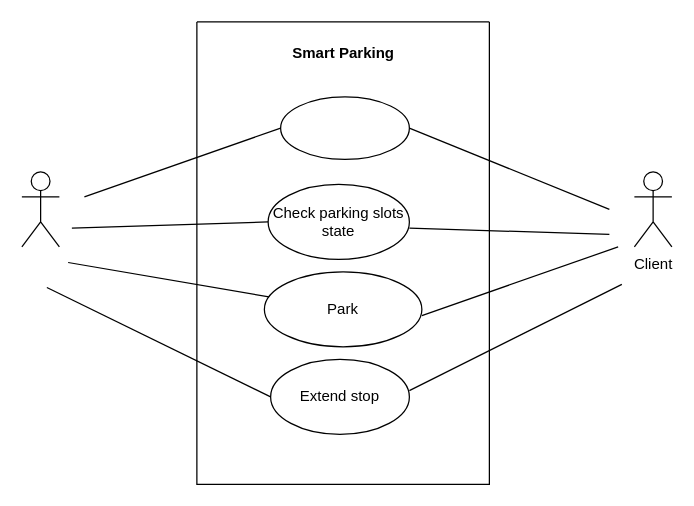
Some shapes in this 694 by 506 pixel diagram are drawn without their labels. The centre of each missing label's shape, as x and y in pixels:
"Access" belongs at point 344,127.
"User" belongs at point 40,209.
